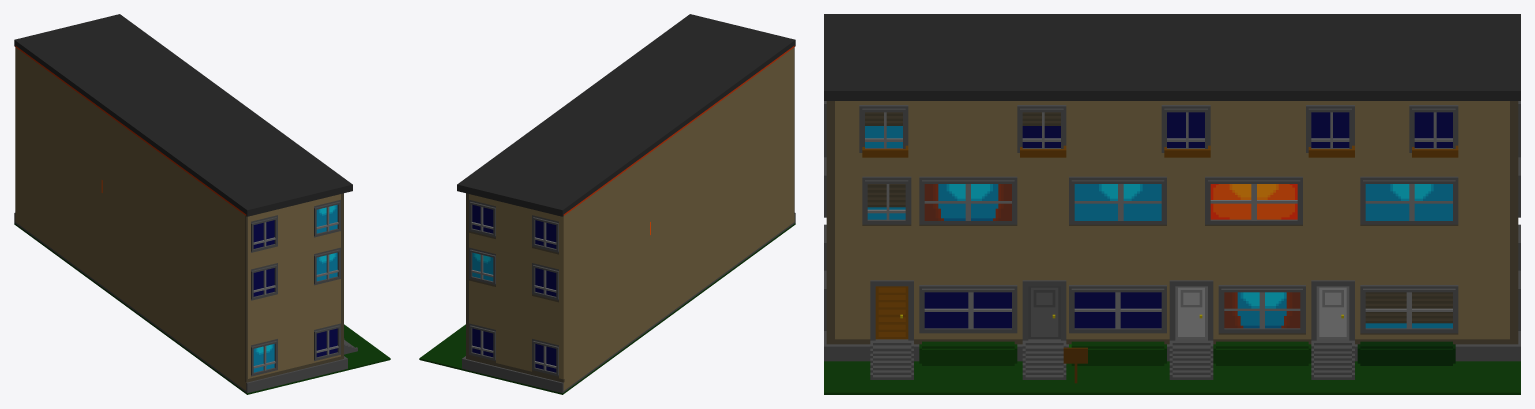
Rendered from House3.obj.
The picture shows the model from 3 angles, left to right: view 1: azimuth 30°, elevation 25°; view 2: azimuth 150°, elevation 25°; view 3: azimuth 270°, elevation 25°; orthographic projection. The views are drawn at different scales.
Size of the model in its own units: 9.1 by 11.2 by 25.6.
Materials: 1 (1 with a texture image).
